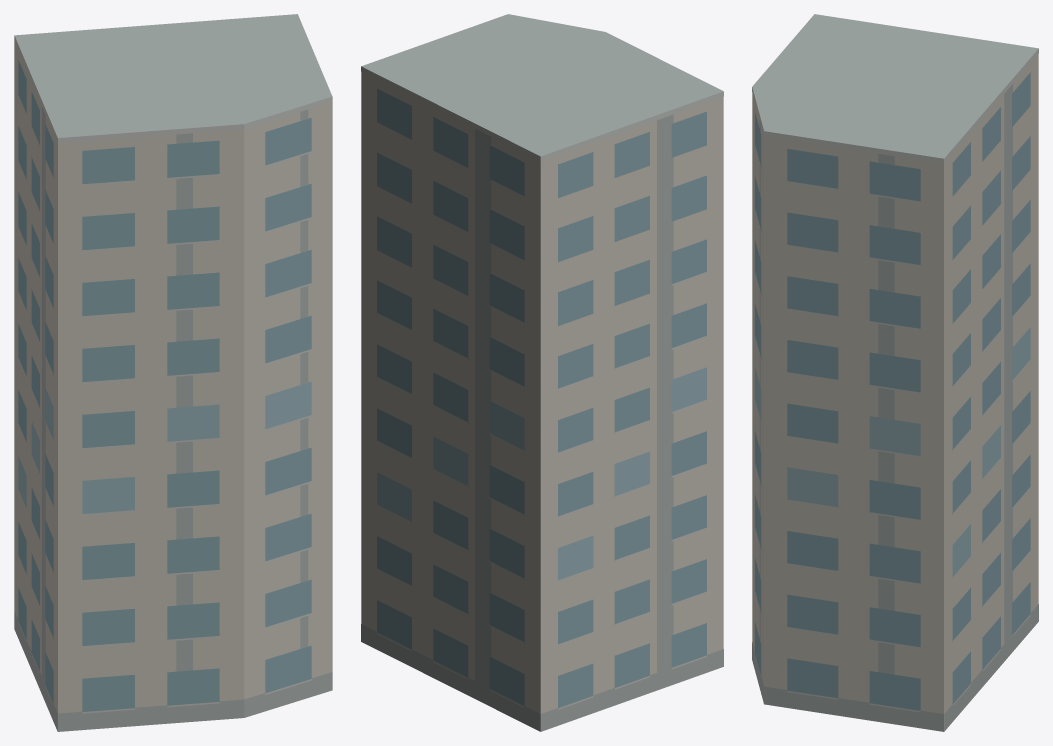
Rendered from residential-8017613b-8ae5-42ca-ae0c-fa6067edc50e.glb.
3 renders of one model, left to right at view 1: azimuth 30°, elevation 25°; view 2: azimuth 150°, elevation 25°; view 3: azimuth 270°, elevation 25°, orthographic. The views are drawn at different scales.
Visible parts, largest first — view 1: residential-8017613b-8ae5-42ca-ae0c-fa6067edc50e.tmp; view 2: residential-8017613b-8ae5-42ca-ae0c-fa6067edc50e.tmp; view 3: residential-8017613b-8ae5-42ca-ae0c-fa6067edc50e.tmp.
Part boxes in pixels (x1,y1,x2,y2): residential-8017613b-8ae5-42ca-ae0c-fa6067edc50e.tmp: [14, 14, 332, 731]; residential-8017613b-8ae5-42ca-ae0c-fa6067edc50e.tmp: [361, 14, 723, 731]; residential-8017613b-8ae5-42ca-ae0c-fa6067edc50e.tmp: [752, 14, 1038, 731].
Bounding box in the file's own units: 14.62 × 27 × 12.25.
